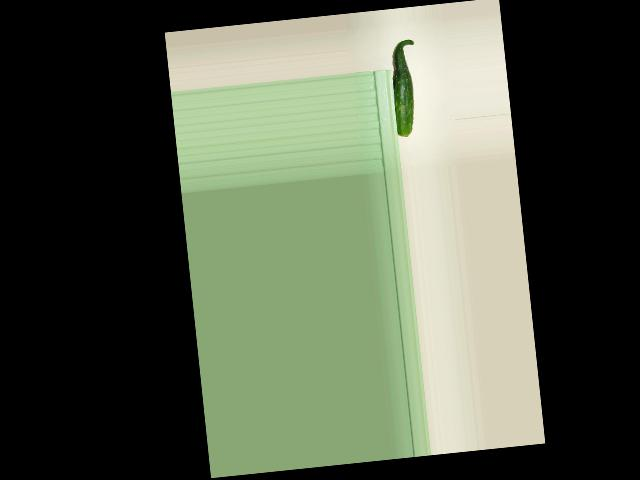cucumber: (387, 38, 423, 137)
